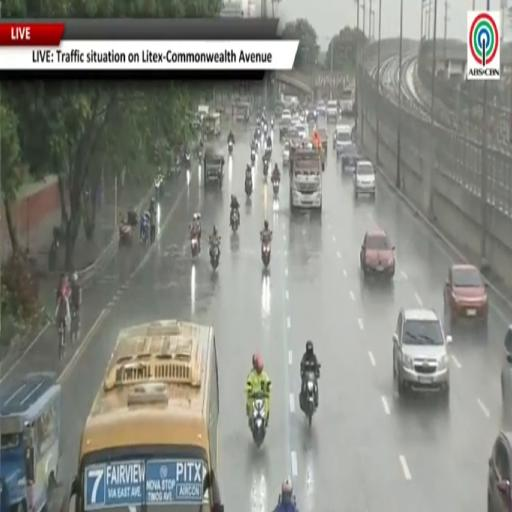bus: (71, 320, 219, 511), (0, 373, 63, 511)
car: (393, 309, 452, 401), (444, 264, 488, 324), (487, 430, 511, 511), (360, 229, 395, 280), (501, 326, 511, 428), (354, 159, 375, 199), (341, 143, 361, 172), (333, 125, 352, 154), (279, 118, 291, 141), (282, 141, 290, 167), (306, 104, 317, 122), (296, 124, 308, 139), (317, 101, 326, 117), (280, 109, 291, 122), (291, 115, 302, 125)
jeepney: (204, 112, 220, 139), (317, 128, 328, 161), (234, 102, 250, 122)
motorcycle: (300, 371, 318, 427), (251, 394, 266, 447), (119, 224, 132, 248), (70, 309, 79, 343), (210, 244, 220, 270), (154, 176, 163, 201), (191, 234, 200, 259), (141, 216, 149, 244), (230, 208, 239, 232), (262, 242, 270, 268), (244, 178, 252, 197), (263, 157, 269, 179), (184, 152, 190, 170), (273, 179, 279, 196), (228, 141, 233, 155), (251, 150, 255, 164), (256, 128, 261, 139), (264, 123, 267, 136), (271, 119, 274, 129)
truck: (290, 148, 322, 212), (203, 148, 224, 188), (339, 88, 354, 117), (327, 100, 338, 123)
